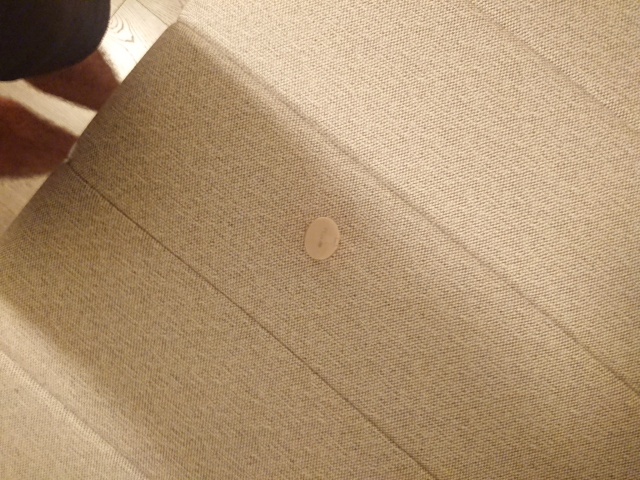Kotanyi Garlic Granules 70g: (303, 215, 341, 262)
